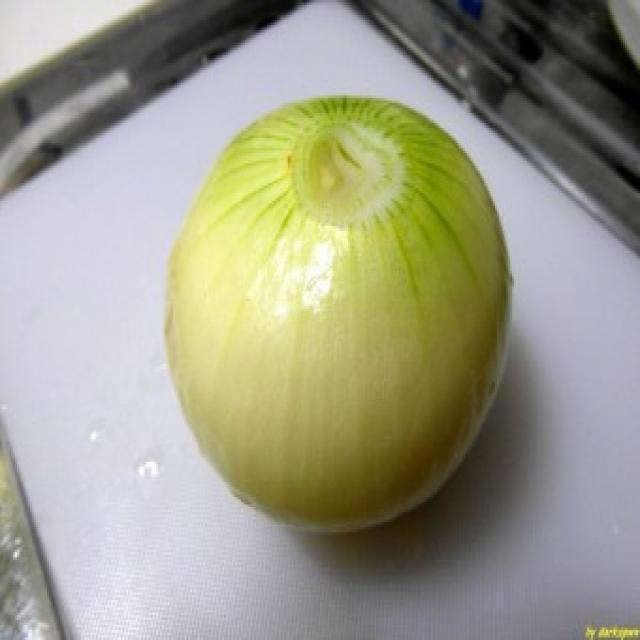Onion: (163, 96, 520, 533)
